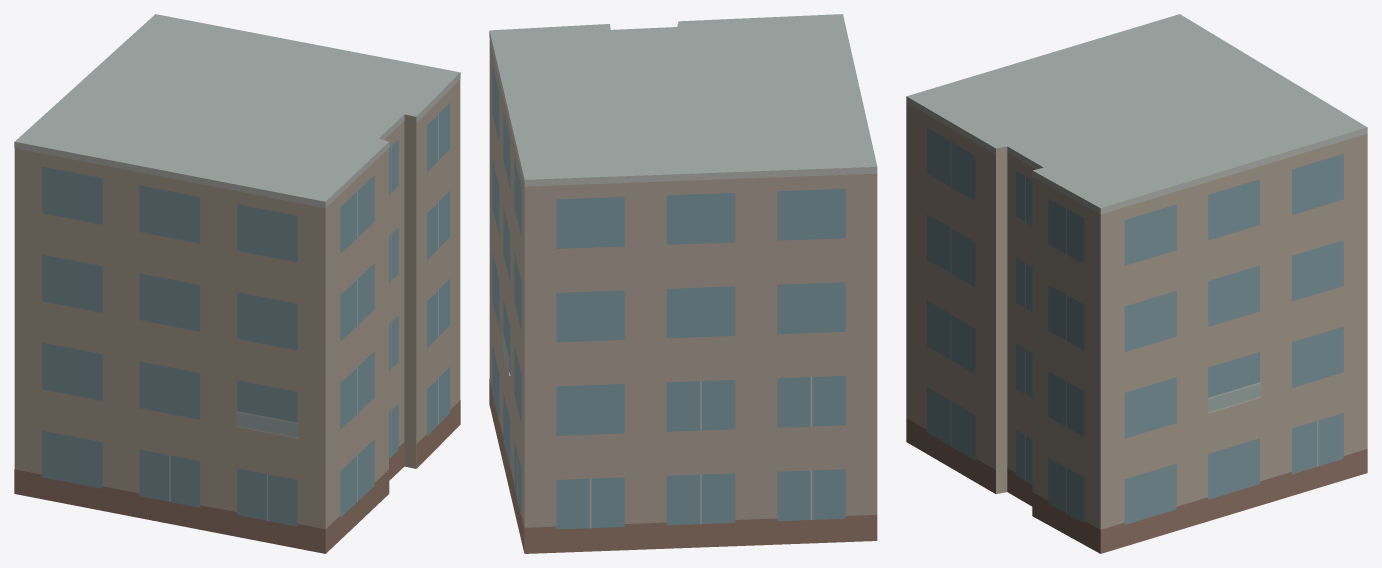
Rendered from survey-upis-32591646.glb.
The picture shows the model from 3 angles, left to right: view 1: azimuth 30°, elevation 25°; view 2: azimuth 150°, elevation 25°; view 3: azimuth 270°, elevation 25°; orthographic projection. The views are drawn at different scales.
Visible parts, largest first — view 1: survey-upis-32591646.tmp; view 2: survey-upis-32591646.tmp; view 3: survey-upis-32591646.tmp.
Part boxes in pixels (x1=…): survey-upis-32591646.tmp: x1=14, y1=14, x2=460, y2=553; survey-upis-32591646.tmp: x1=489, y1=14, x2=877, y2=553; survey-upis-32591646.tmp: x1=906, y1=14, x2=1367, y2=553.
Bounding box in the file's own units: 16.16 × 13.4 × 16.21.
